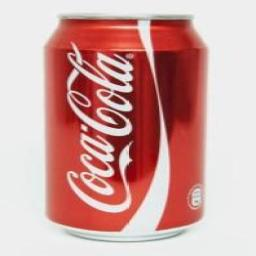Aluminum: (44, 13, 211, 243)
